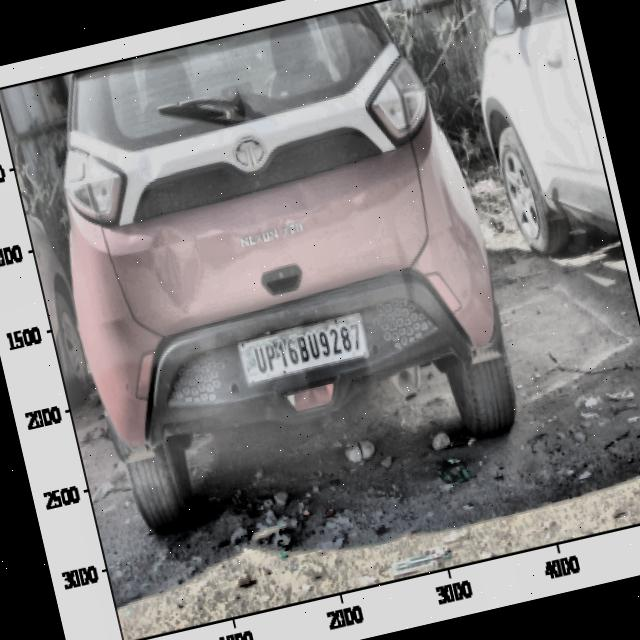license_plate: (244, 314, 370, 381)
